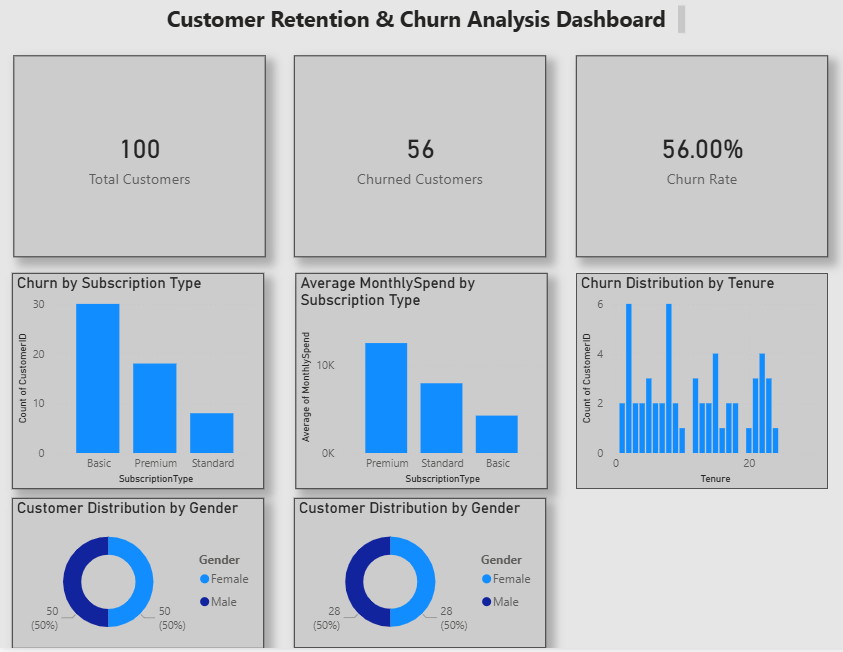

Layout of this report page (visuals, bound fields, positions):
{"tool":"powerbi","page":{"name":"Page 1","canvas":[1280,720],"ordinal":0},"visuals":[{"type":"card","fields":{"Values":["customer_churn_dataset.Total Customers"]},"box":[14.3,61.4,280,224.3],"z":0},{"type":"card","fields":{"Values":["customer_churn_dataset.Churned Customers"]},"box":[327.1,61.4,280,224.3],"z":1000},{"type":"card","fields":{"Values":["customer_churn_dataset.Churn Rate"]},"box":[640,61.4,280,224.3],"z":2000},{"type":"clusteredColumnChart","title":"Churn by Subscription Type","fields":{"Category":["customer_churn_dataset.SubscriptionType"],"Y":["CountNonNull(customer_churn_dataset.CustomerID)"]},"box":[13.8,302.5,280,240],"z":3000},{"type":"clusteredColumnChart","title":"Average MonthlySpend by Subscription Type","fields":{"Category":["customer_churn_dataset.SubscriptionType"],"Y":["Avg(customer_churn_dataset.MonthlySpend)"]},"box":[327.5,302.5,280,240],"z":4000},{"type":"clusteredColumnChart","title":"Churn Distribution by Tenure","fields":{"Category":["customer_churn_dataset.Tenure"],"Y":["CountNonNull(customer_churn_dataset.CustomerID)"]},"box":[640,302.5,280,240],"z":5000},{"type":"donutChart","title":"Customer Distribution by Gender","fields":{"Category":["customer_churn_dataset.Gender"],"Y":["CountNonNull(customer_churn_dataset.CustomerID)"]},"box":[14,553,280,167],"z":5001},{"type":"donutChart","title":"Customer Distribution by Gender","fields":{"Category":["customer_churn_dataset.Gender"],"Y":["CountNonNull(customer_churn_dataset.CustomerID)"]},"box":[326.7,553.3,280,166.7],"z":5002},{"type":"textbox","box":[180,0,586,41.4],"z":5003}]}

Visuals, with their boxes on the page's 1280x720 design canvas (x1, y1, x2, y2). These are canvas units, not pixel positions in the 843x652 screenshot, which may show the page scaled, cropped or inside an application window:
card - customer_churn_dataset.Total Customers: (left=14, top=61, right=294, bottom=286)
card - customer_churn_dataset.Churned Customers: (left=327, top=61, right=607, bottom=286)
card - customer_churn_dataset.Churn Rate: (left=640, top=61, right=920, bottom=286)
"Churn by Subscription Type" clusteredColumnChart: (left=14, top=302, right=294, bottom=542)
"Average MonthlySpend by Subscription Type" clusteredColumnChart: (left=328, top=302, right=608, bottom=542)
"Churn Distribution by Tenure" clusteredColumnChart: (left=640, top=302, right=920, bottom=542)
"Customer Distribution by Gender" donutChart: (left=14, top=553, right=294, bottom=720)
"Customer Distribution by Gender" donutChart: (left=327, top=553, right=607, bottom=720)
textbox: (left=180, top=0, right=766, bottom=41)
